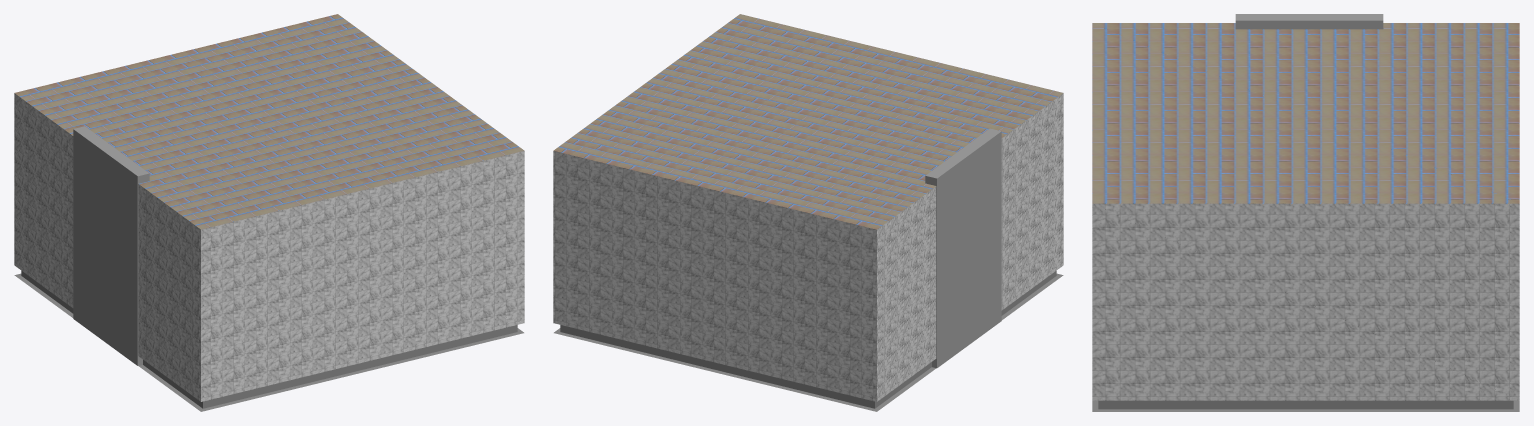
File: cozinha2.fbx
The picture shows the model from 3 angles, left to right: view 1: azimuth 30°, elevation 25°; view 2: azimuth 150°, elevation 25°; view 3: azimuth 270°, elevation 25°; orthographic projection. The views are drawn at different scales.
Parts seen in each view (by area): view 1: cozinha, pia; view 2: cozinha, pia; view 3: cozinha, pia.
Part boxes in pixels (left/top/right/bottom): cozinha: left=14, top=14, right=524, bottom=411; pia: left=73, top=126, right=149, bottom=365; cozinha: left=553, top=14, right=1063, bottom=411; pia: left=925, top=128, right=1001, bottom=368; cozinha: left=1092, top=23, right=1519, bottom=411; pia: left=1235, top=14, right=1383, bottom=29.
Size of the model in its own units: 33.06 by 18.91 by 32.99.
